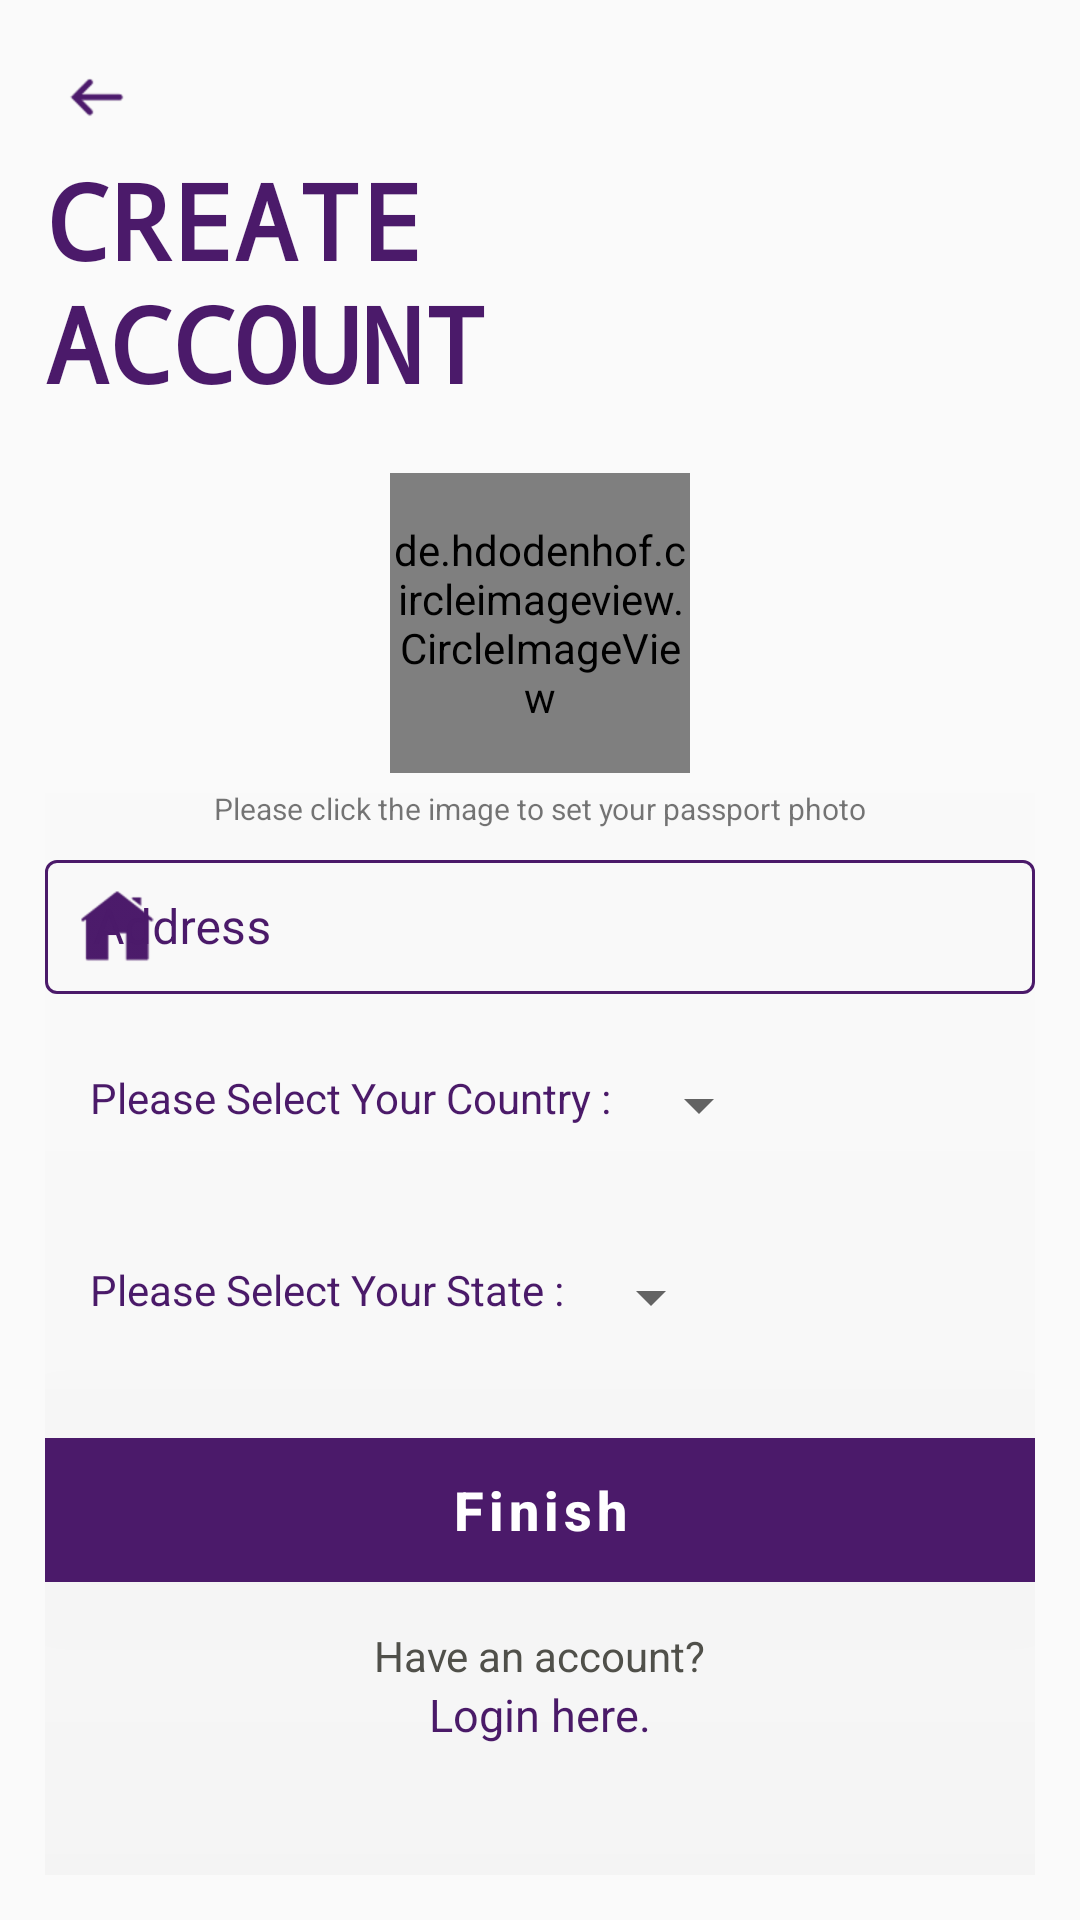

Point at icon controls on the screen. Image size 1080 × 1920, points as [x,y].
left: [96,97]
